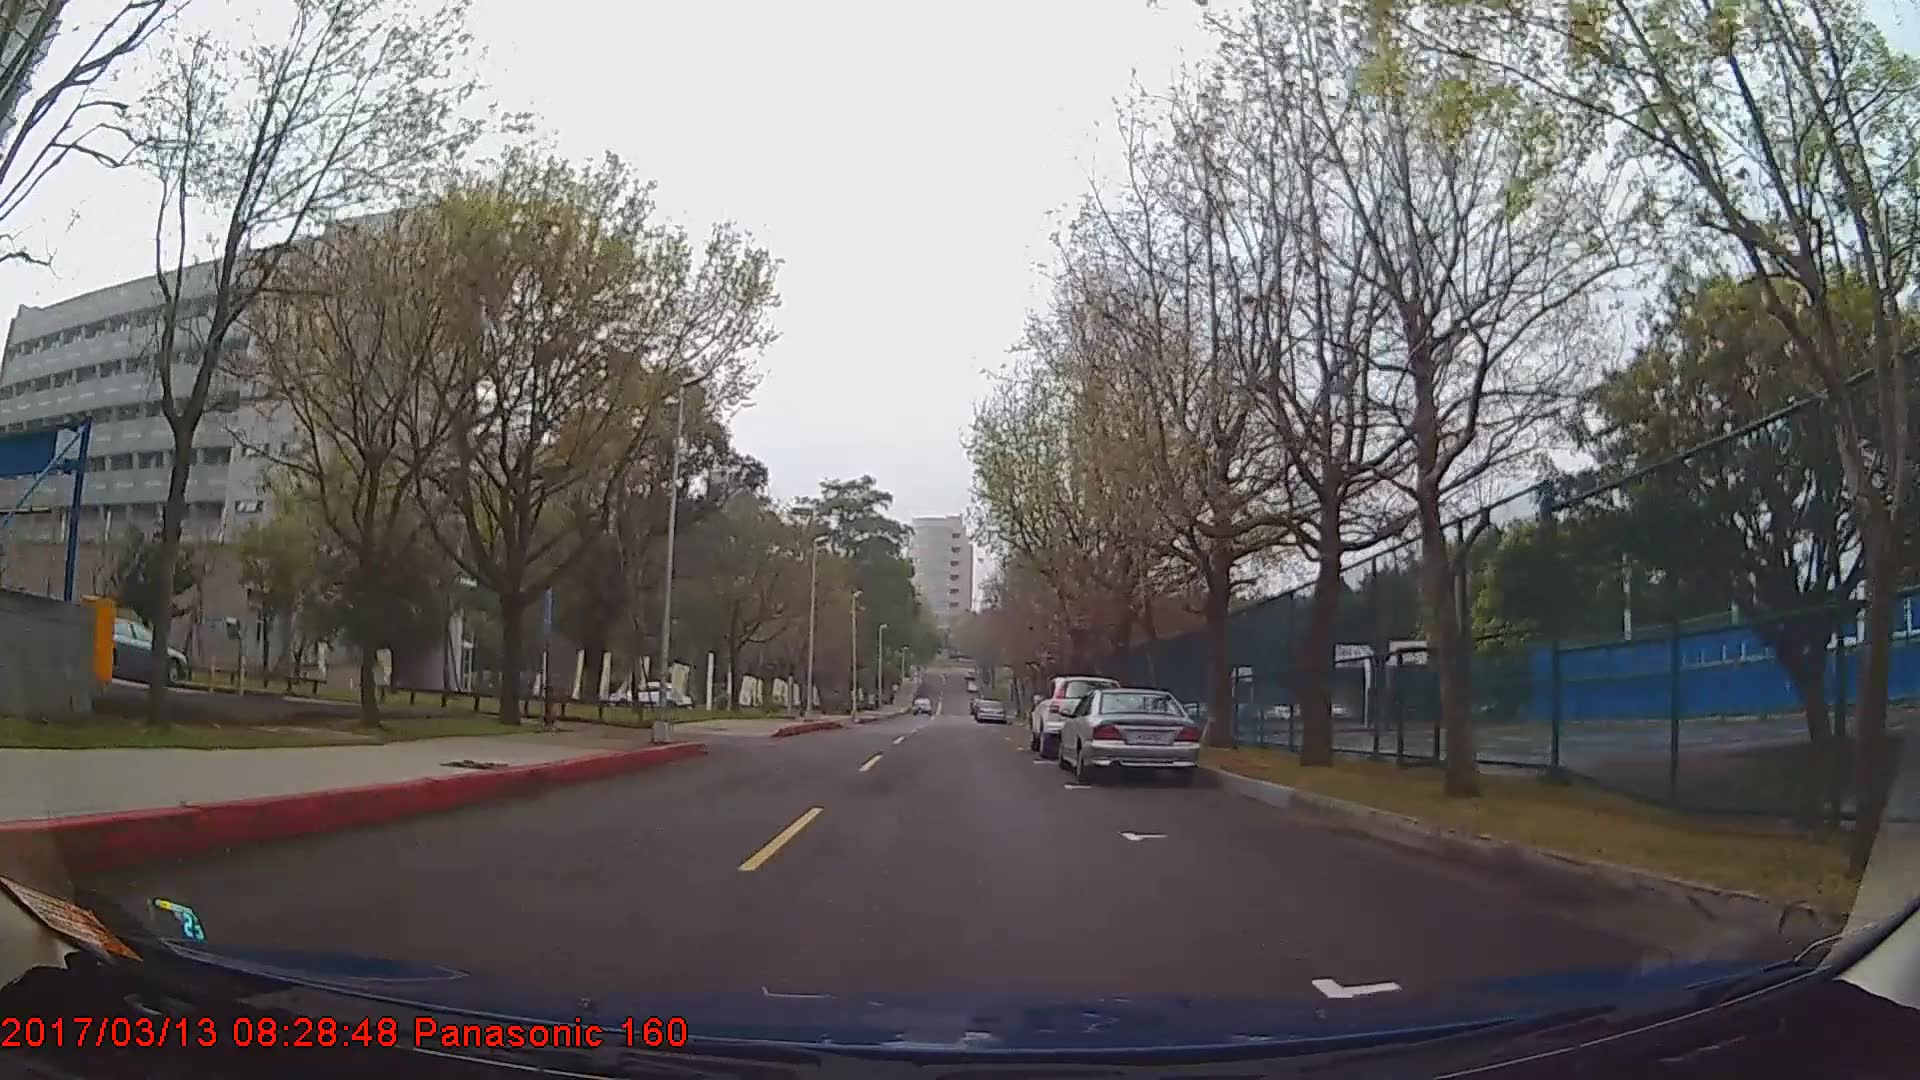vehicle: (1058, 686, 1203, 781), (70, 615, 187, 684), (1029, 673, 1124, 756), (615, 679, 692, 709), (975, 698, 1006, 725)
